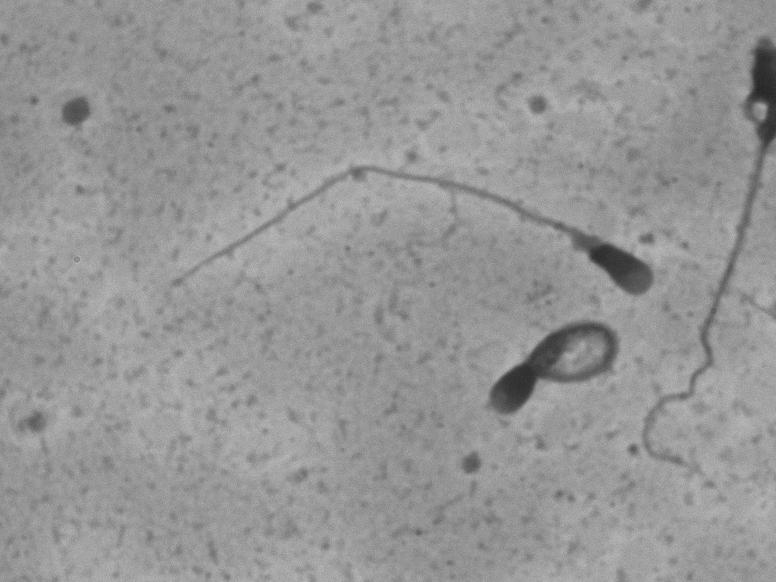Abnormal: (185, 104, 663, 309), (478, 308, 620, 437)
